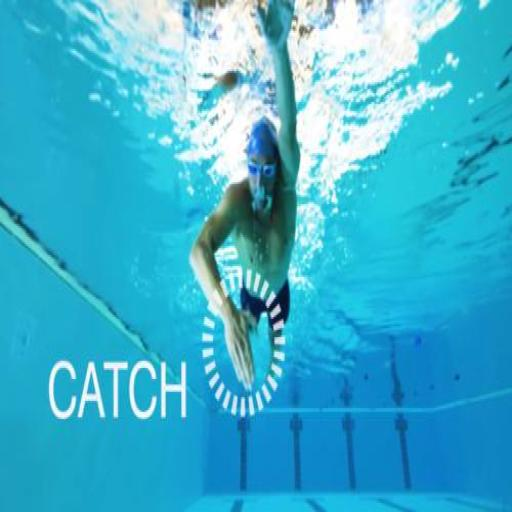swimming: (186, 0, 302, 399)
